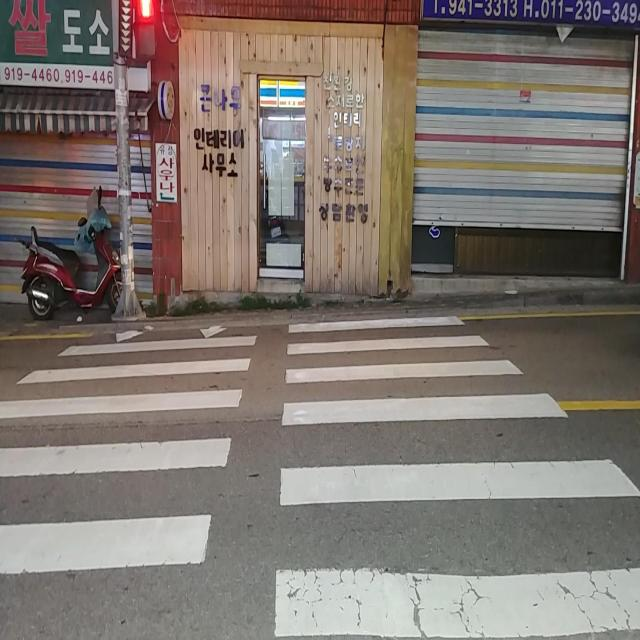빨간불: (121, 0, 166, 59)
횡단보도: (1, 309, 639, 636)
